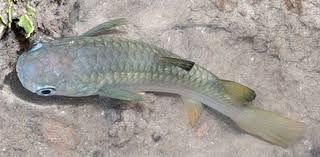Mullet: (14, 17, 307, 145)
